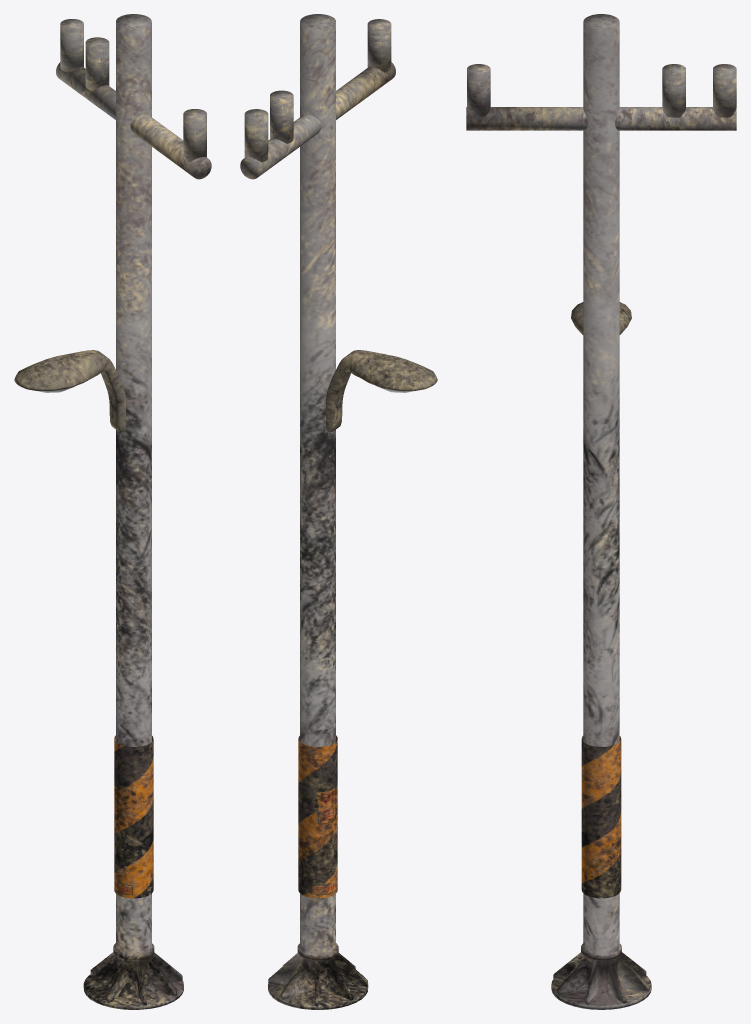
The model's file is stage1electro.fbx.
3 renders of one model, left to right at view 1: azimuth 30°, elevation 25°; view 2: azimuth 150°, elevation 25°; view 3: azimuth 270°, elevation 25°, orthographic.
Parts seen in each view (by area): view 1: elctro, elctro.005, light, elctro.001, elctro.003, elctro.002, elctro.004; view 2: elctro, elctro.005, light, elctro.001, elctro.004, elctro.002, elctro.003; view 3: elctro, elctro.005, elctro.001, elctro.002, elctro.003, elctro.004, light.
Boxes of the visible parts, left/top/right/bottom form: elctro: left=83, top=14, right=183, bottom=1009; elctro.005: left=114, top=735, right=153, bottom=898; light: left=14, top=350, right=125, bottom=432; elctro.001: left=56, top=62, right=211, bottom=179; elctro.003: left=85, top=37, right=109, bottom=90; elctro.002: left=60, top=19, right=83, bottom=71; elctro.004: left=183, top=109, right=206, bottom=161; elctro: left=268, top=14, right=368, bottom=1009; elctro.005: left=298, top=735, right=337, bottom=898; light: left=326, top=350, right=437, bottom=432; elctro.001: left=240, top=62, right=395, bottom=179; elctro.004: left=367, top=19, right=391, bottom=72; elctro.002: left=244, top=109, right=268, bottom=162; elctro.003: left=270, top=90, right=293, bottom=143; elctro: left=551, top=14, right=651, bottom=1009; elctro.005: left=581, top=736, right=621, bottom=898; elctro.001: left=466, top=107, right=736, bottom=130; elctro.002: left=713, top=64, right=736, bottom=117; elctro.003: left=662, top=64, right=685, bottom=117; elctro.004: left=467, top=64, right=490, bottom=117; light: left=571, top=302, right=631, bottom=334.
Size of the model in its own units: 232 by 1346 by 341.
Materials: 3 (2 with a texture image).
